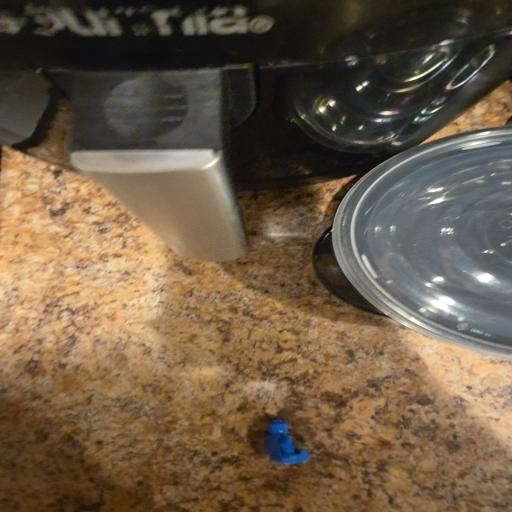Blue: (265, 420, 309, 465)
